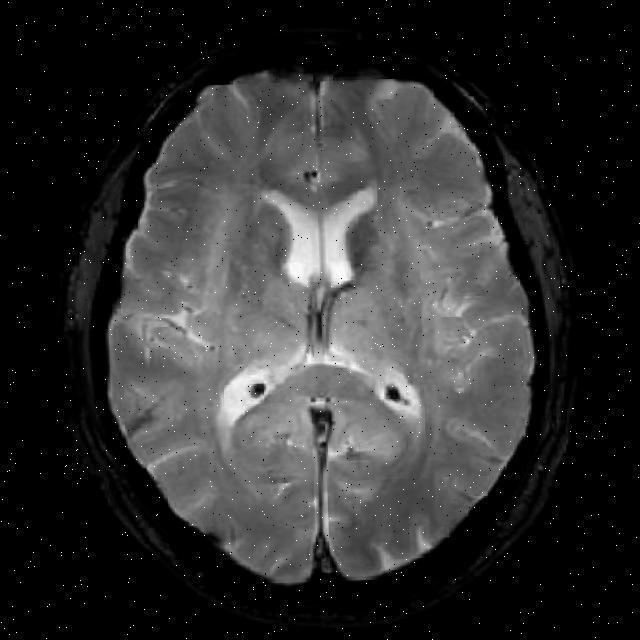EMCI: (398, 186, 493, 342)
LMCI: (156, 251, 218, 353)
